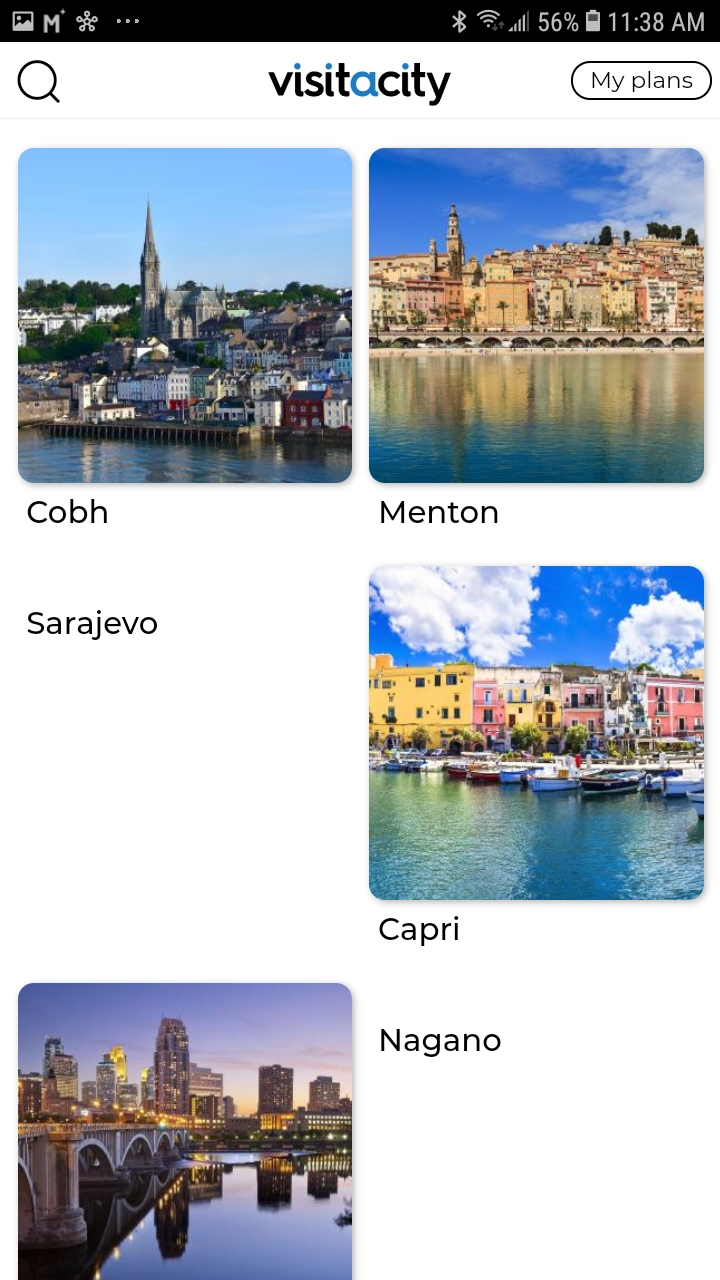Icon: (18, 60, 61, 105)
Image: (369, 566, 705, 901), (370, 148, 705, 484), (19, 148, 353, 484), (18, 982, 353, 1280), (269, 63, 452, 107)
Text: (28, 609, 159, 641), (381, 1028, 502, 1058), (381, 501, 499, 525), (379, 916, 460, 947), (28, 499, 109, 525)
TextButton: (571, 61, 713, 101)
UpperTaskBar: (1, 1, 720, 43)
